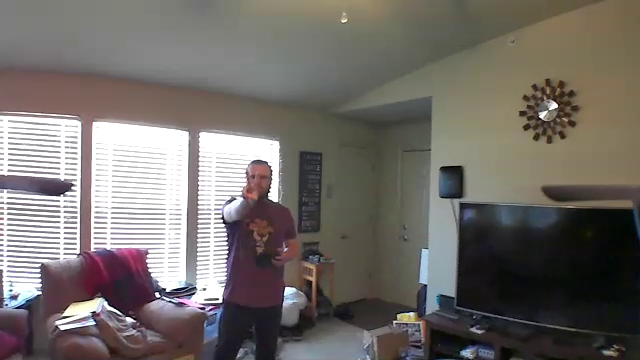peace: (238, 164, 266, 208)
